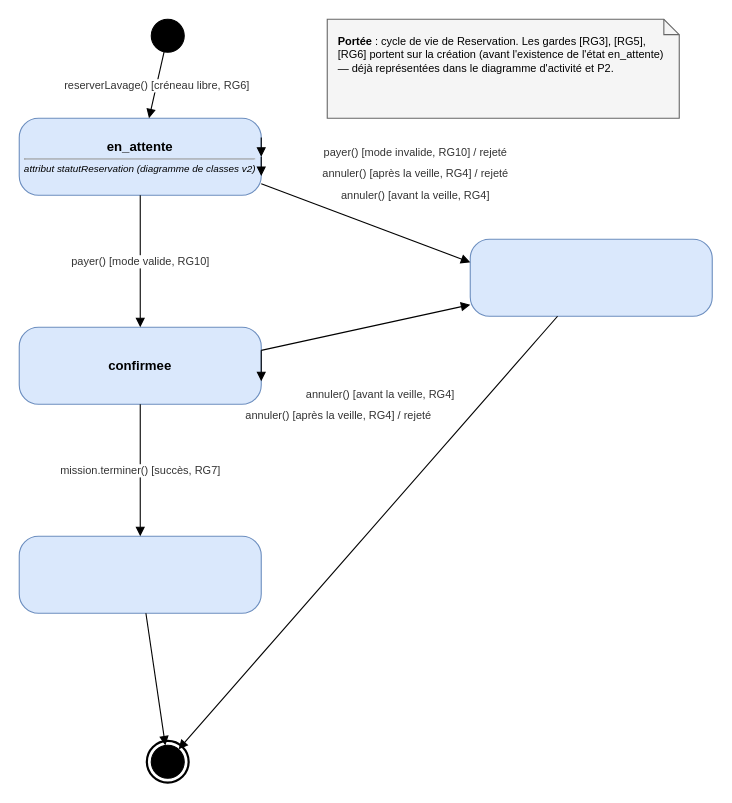
The diagram is 732 pixels wide and 803 high, and some of its shapes have lost their labels. Here are the shapes that lost their labels. From the top down, the centre of each, then its label:
At point 590,277: "annulee".
At point 139,574: "terminee".
